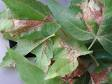Diseased_Leaves: (13, 16, 47, 32), (60, 41, 85, 62), (81, 1, 102, 21), (89, 69, 110, 83)
